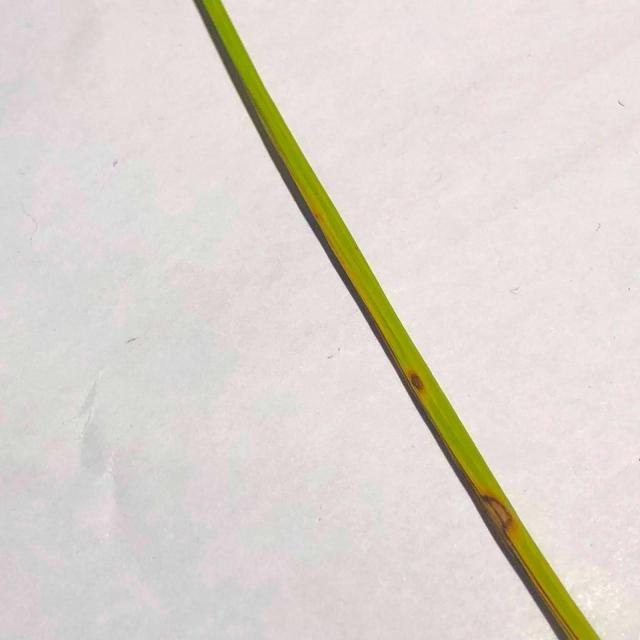Leaf blast: (470, 481, 518, 546), (402, 367, 430, 395)
